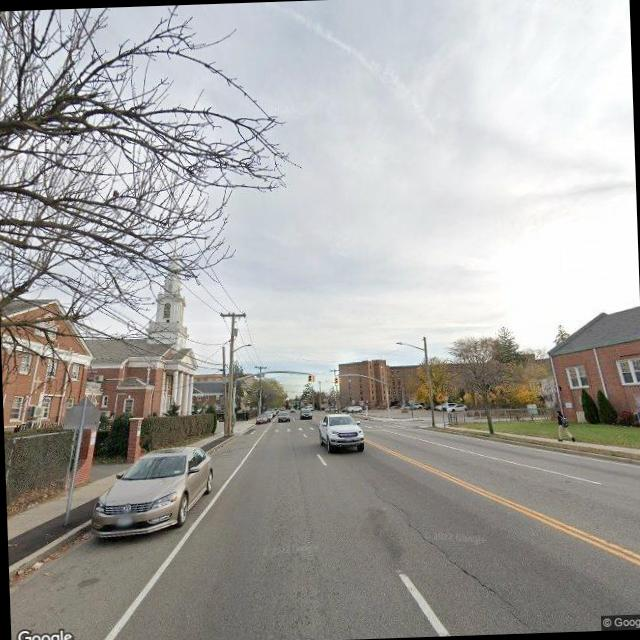pothole: (372, 482, 526, 625)
